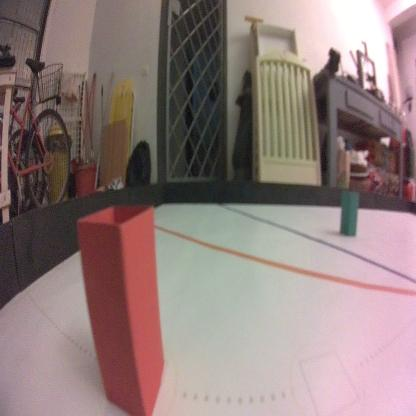green: (339, 190, 360, 237)
red: (75, 202, 165, 414)
